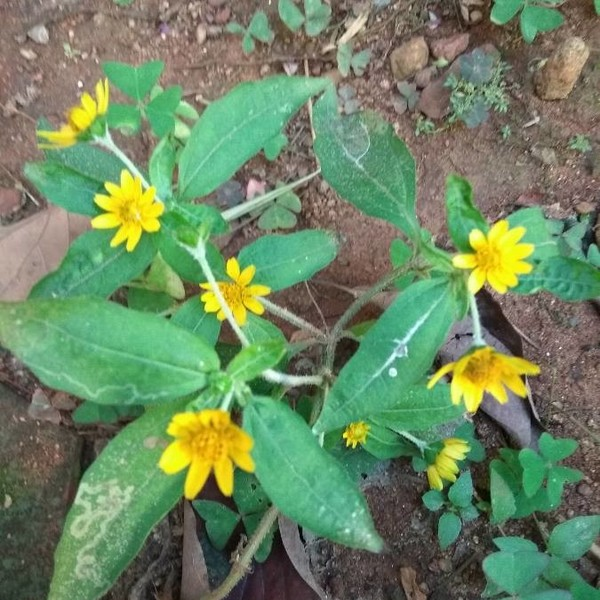obstacle: (55, 94, 558, 564)
